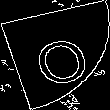O_N: (22, 24, 88, 86)
